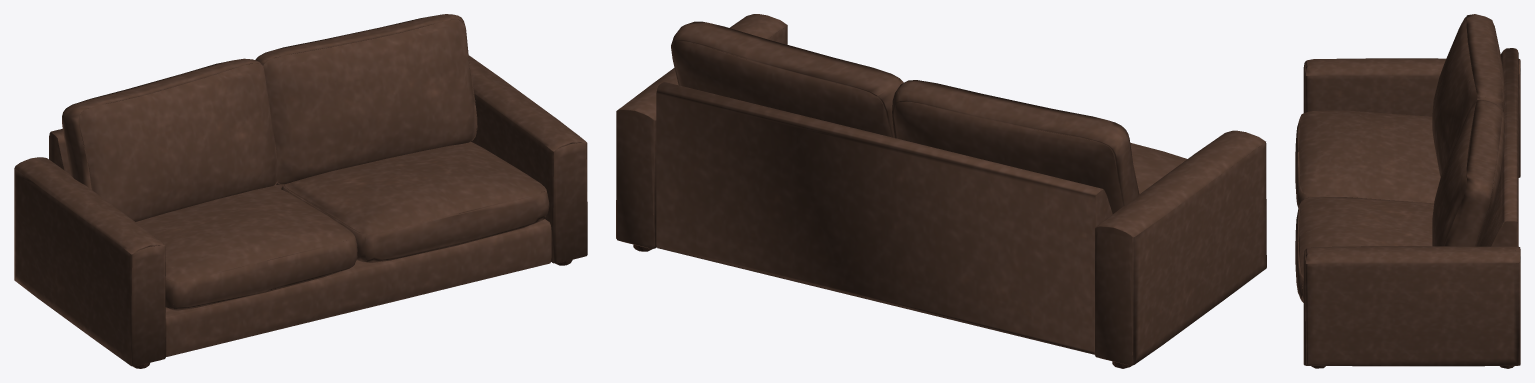
3 renders of one model, left to right at view 1: azimuth 30°, elevation 25°; view 2: azimuth 150°, elevation 25°; view 3: azimuth 270°, elevation 25°, orthographic. The views are drawn at different scales.
Visible parts, largest first — view 1: visual_RootNode; view 2: visual_RootNode; view 3: visual_RootNode.
Part boxes in pixels (left/top/right/bottom): visual_RootNode: left=14, top=14, right=587, bottom=368; visual_RootNode: left=616, top=14, right=1266, bottom=368; visual_RootNode: left=1295, top=14, right=1520, bottom=368.
Bounding box in the file's own units: 2.18 × 1.02 × 0.8728.
Materials: 1 (1 with a texture image).
